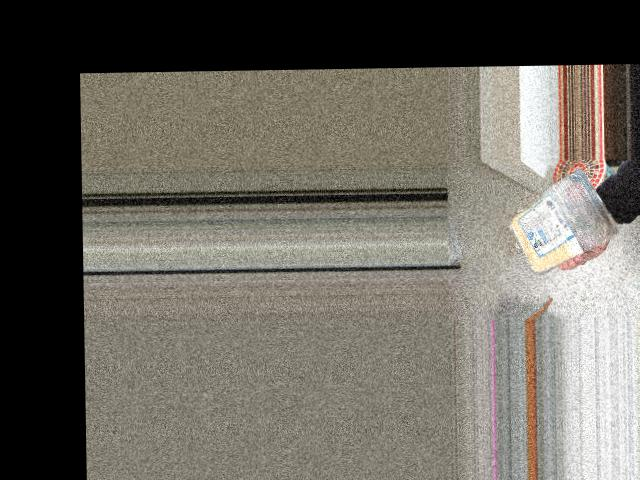cheese: (500, 171, 611, 263)
